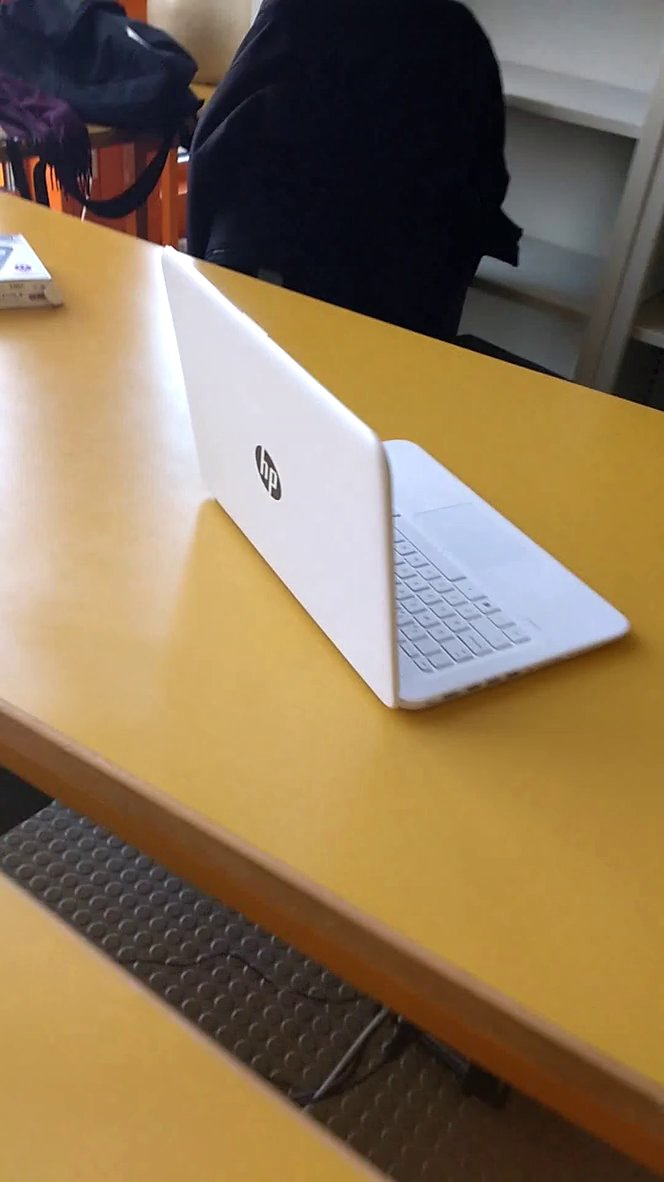chair: (190, 3, 525, 358)
laptop: (146, 241, 638, 725)
